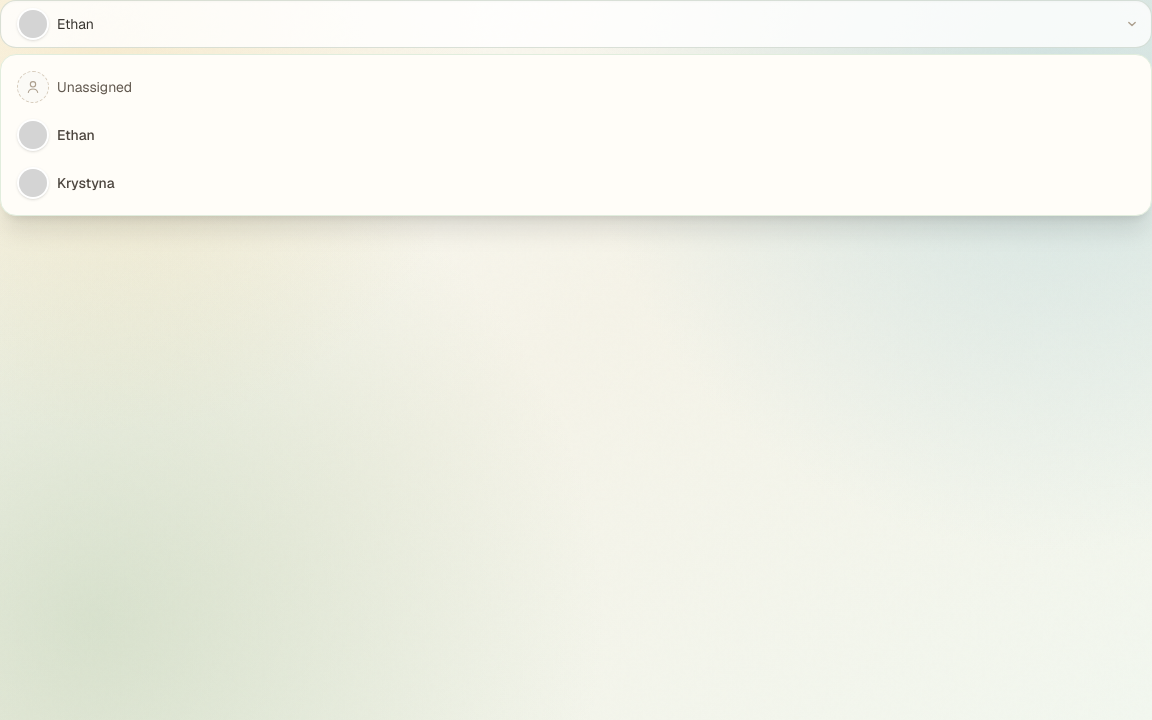
Test case: AssigneePicker › restores the previous assignee and reports the failure when the save fails
Click the button "Krystyna".
click(33, 183)  # box [9,159,1143,207]
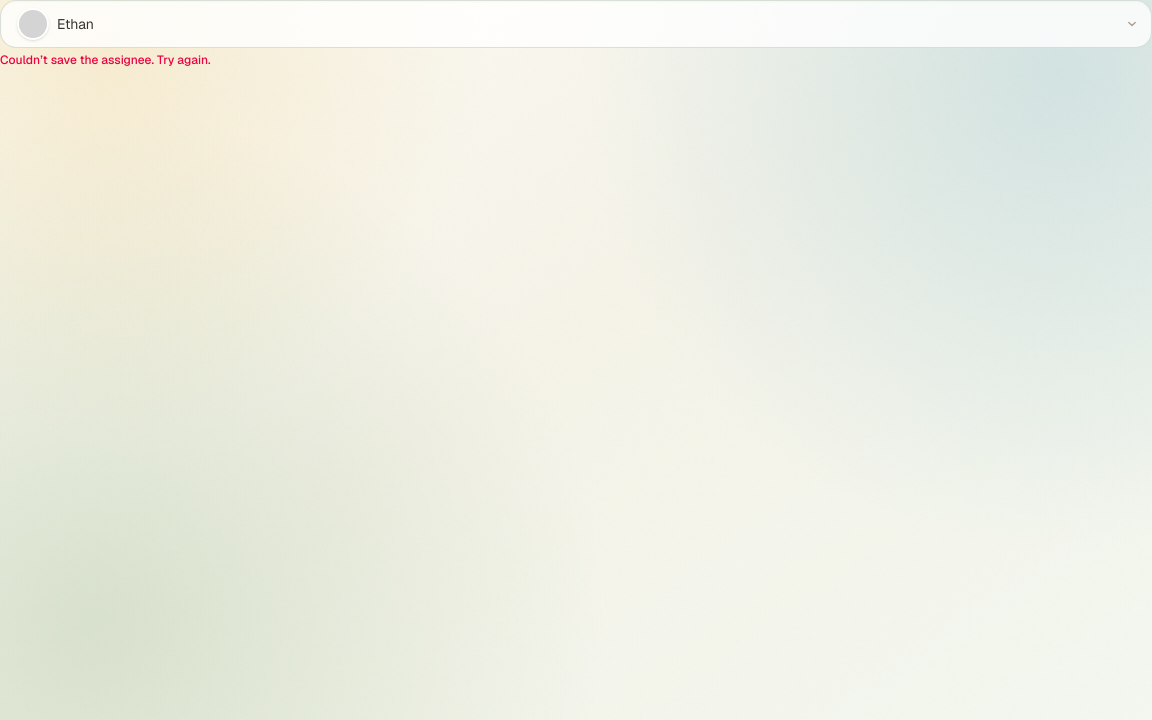
Expected: the text "Ethan" is shown, [57,15,94,33]
Now the message shows "Couldn’t save the assignee", box [0,52,211,68]
